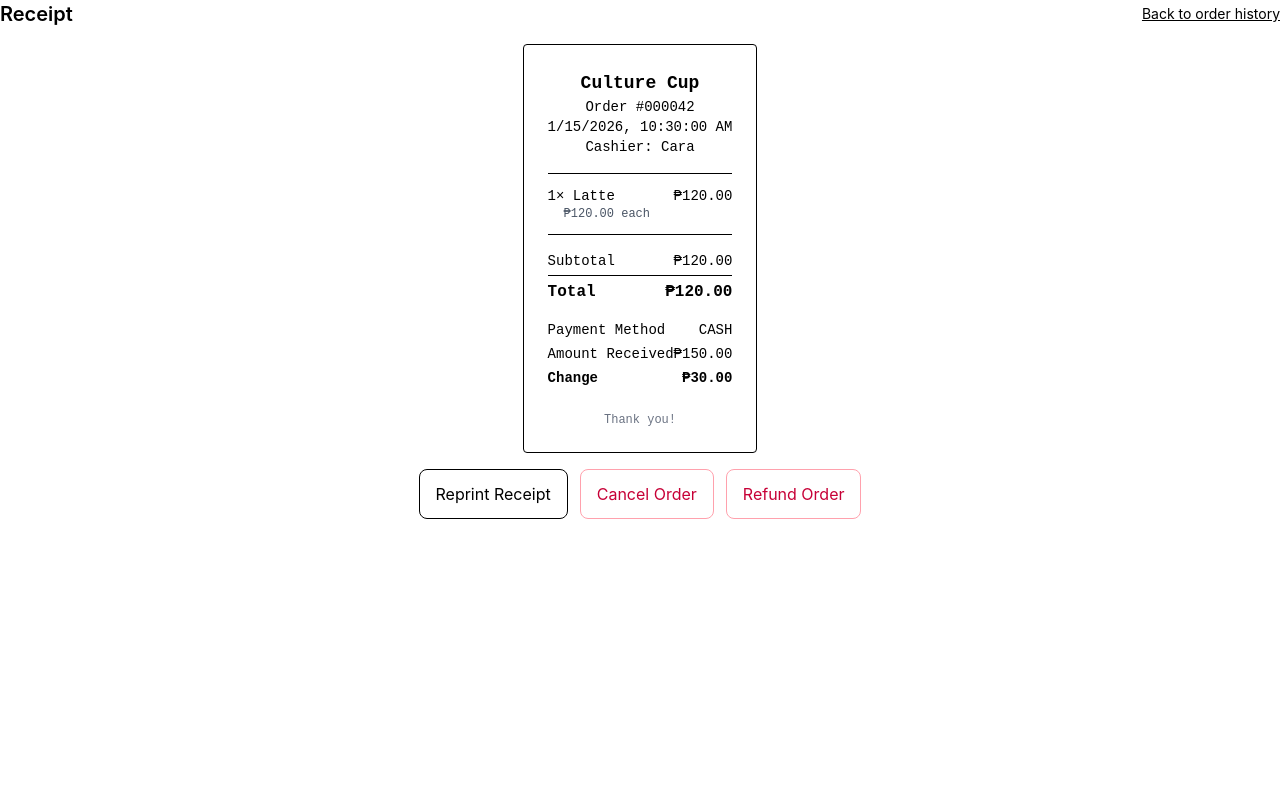
OrderDetailPage › cancels the order and shows the updated status banner
Expected: the text "Order #000042" is shown, [585,99,695,115]
Click the button "Cancel Order" at (647, 494), box [580,469,714,519]
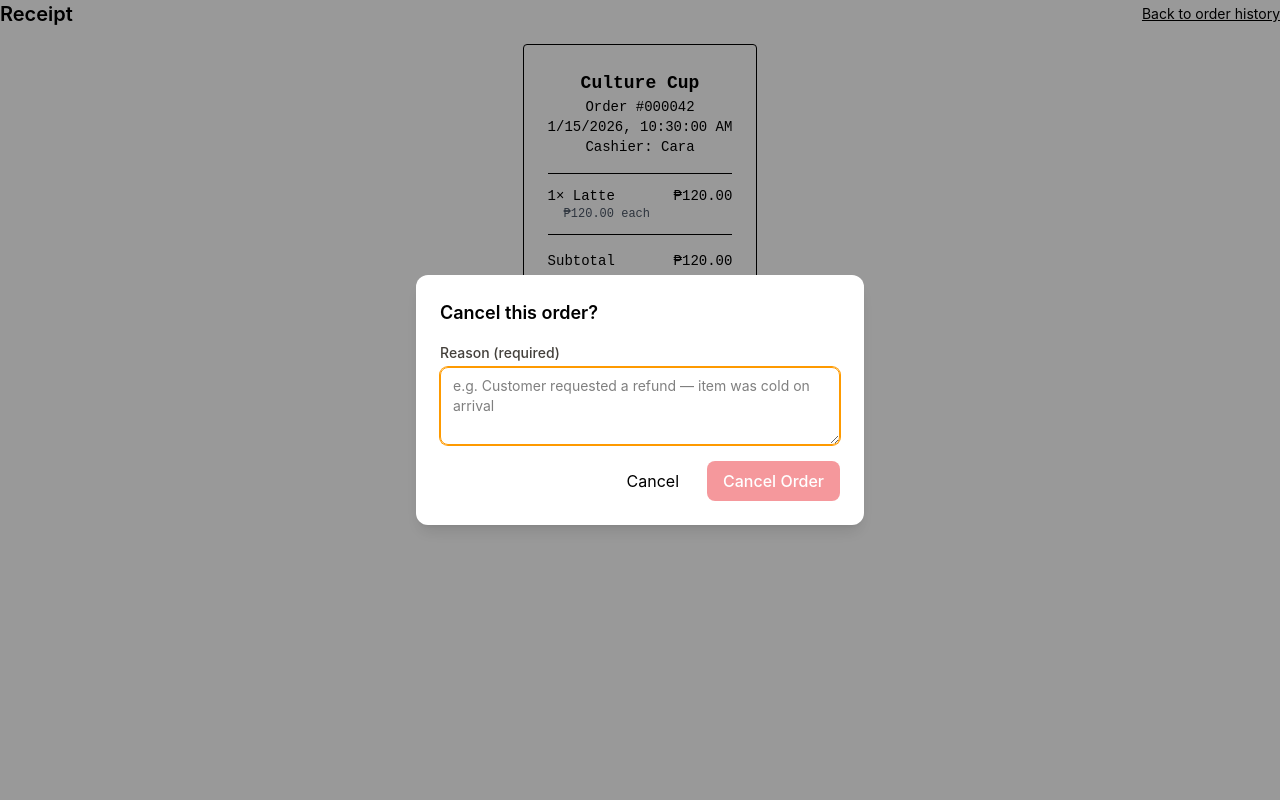
Type "Wrong order placed" into the text box with placeholder "e.g. Customer requested a refund — item was cold on arrival" at (640, 406), box [440,367,840,445]
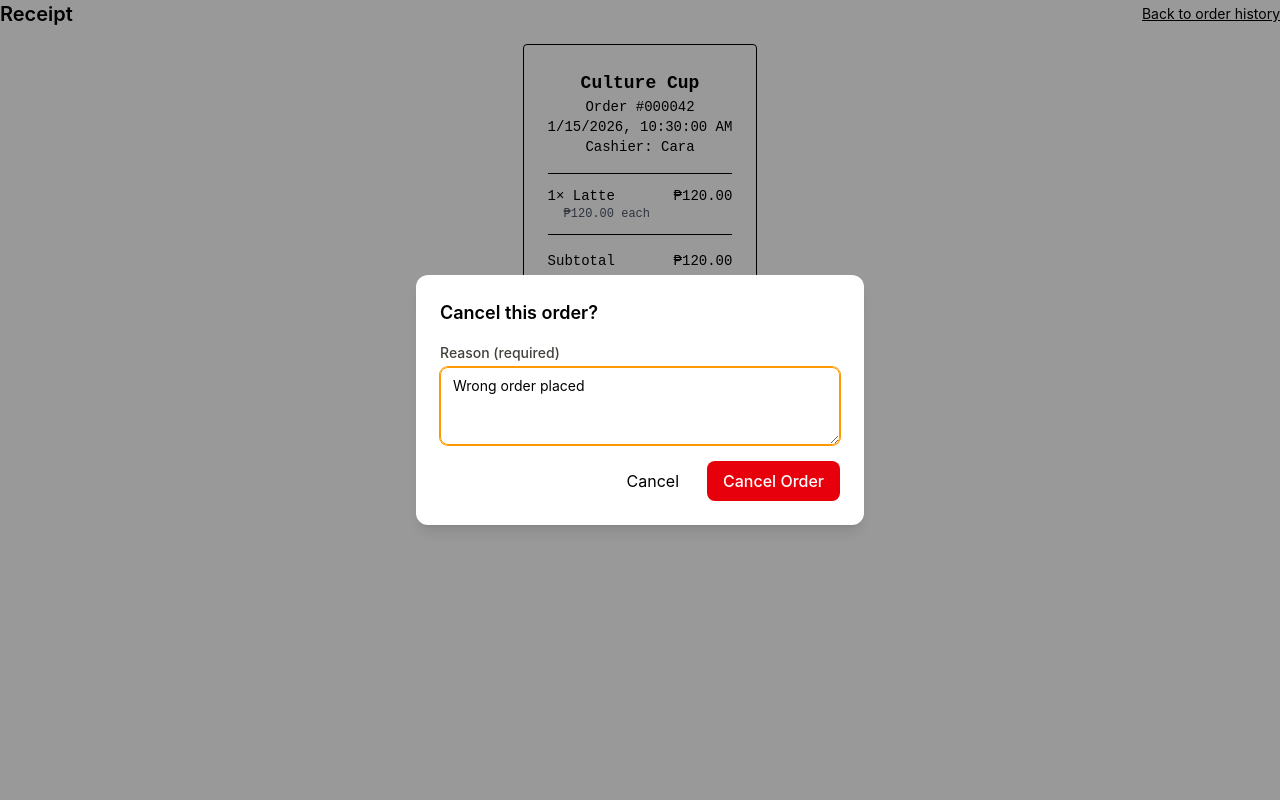
Click the button "Cancel Order" at (774, 481), box [707,461,840,501]
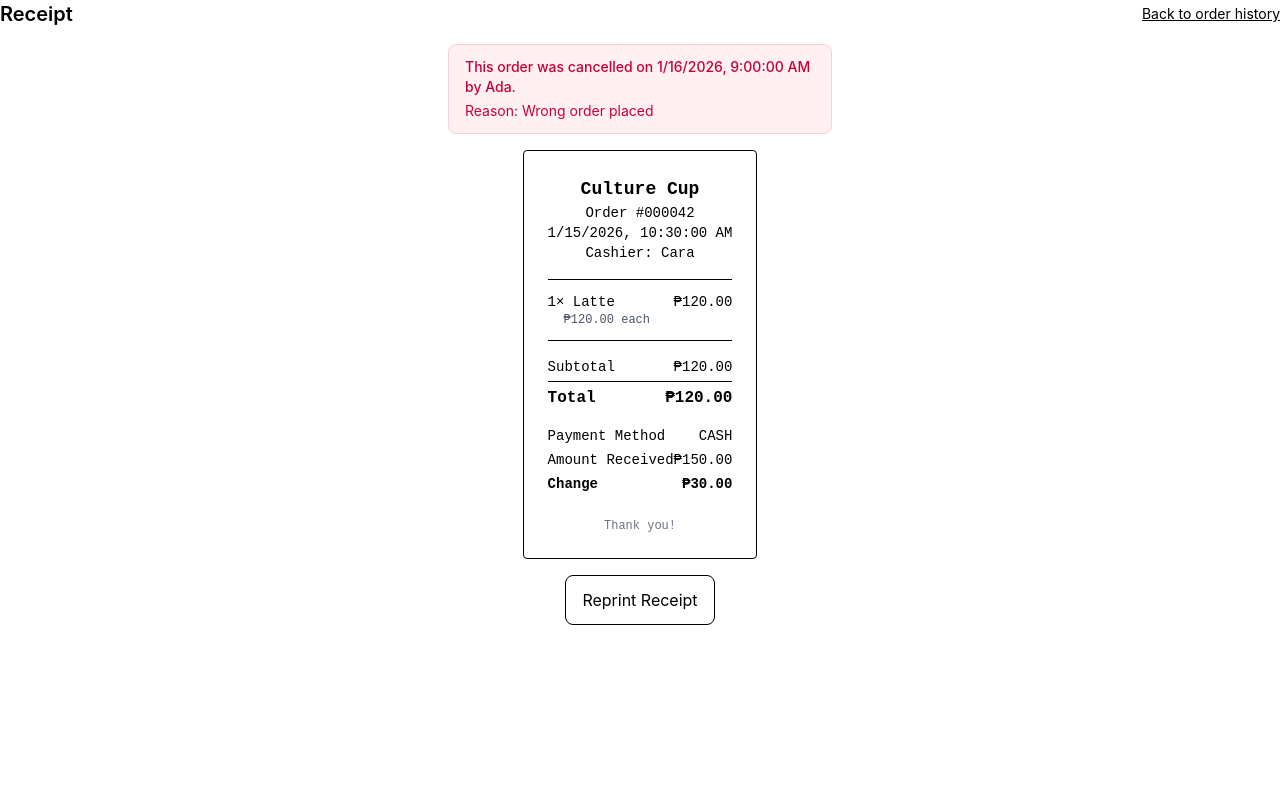
Expected: the text "This order was cancelled on 1/16/2026, 9:00:00 AM by Ada." is shown, [465,57,815,97]
Expected: the button "Cancel Order" is gone
